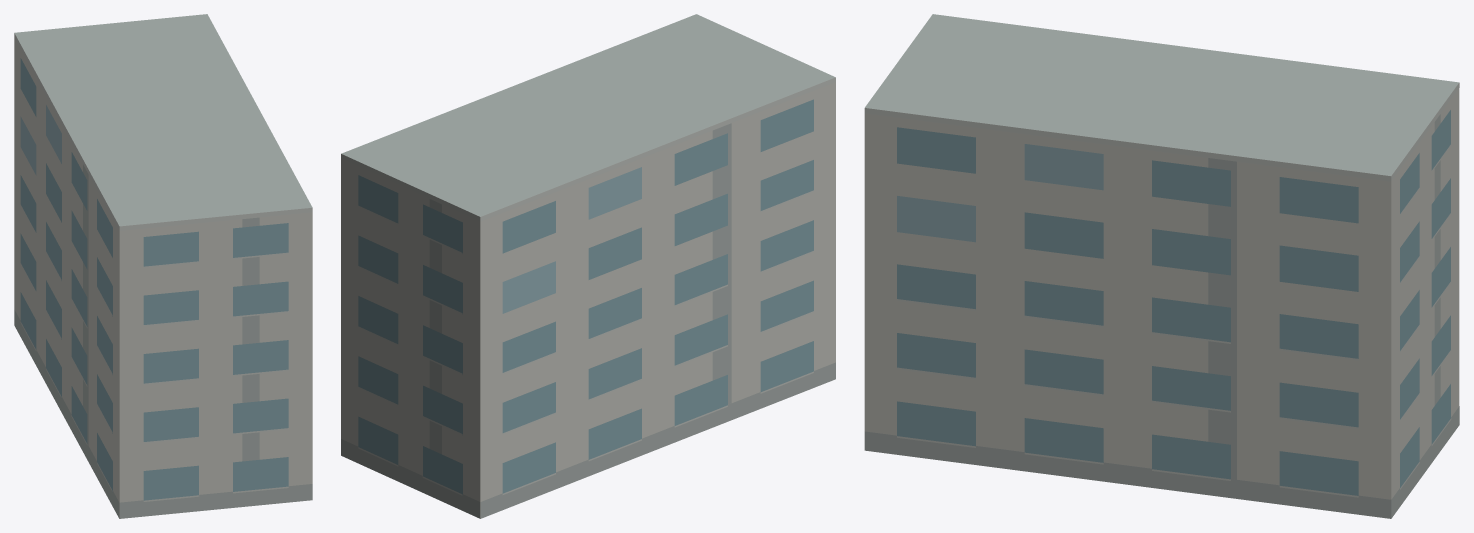
The model's file is residential-77d18c5c-1384-48f5-8d4b-fbe3c55cb8e2.glb.
3 renders of one model, left to right at view 1: azimuth 30°, elevation 25°; view 2: azimuth 150°, elevation 25°; view 3: azimuth 270°, elevation 25°, orthographic. The views are drawn at different scales.
Parts seen in each view (by area): view 1: residential-77d18c5c-1384-48f5-8d4b-fbe3c55cb8e2.tmp; view 2: residential-77d18c5c-1384-48f5-8d4b-fbe3c55cb8e2.tmp; view 3: residential-77d18c5c-1384-48f5-8d4b-fbe3c55cb8e2.tmp.
Part boxes in pixels (left/top/right/bottom): residential-77d18c5c-1384-48f5-8d4b-fbe3c55cb8e2.tmp: left=14, top=14, right=312, bottom=518; residential-77d18c5c-1384-48f5-8d4b-fbe3c55cb8e2.tmp: left=341, top=14, right=835, bottom=518; residential-77d18c5c-1384-48f5-8d4b-fbe3c55cb8e2.tmp: left=864, top=14, right=1459, bottom=518.
Size of the model in its own units: 15.49 by 15.25 by 24.
